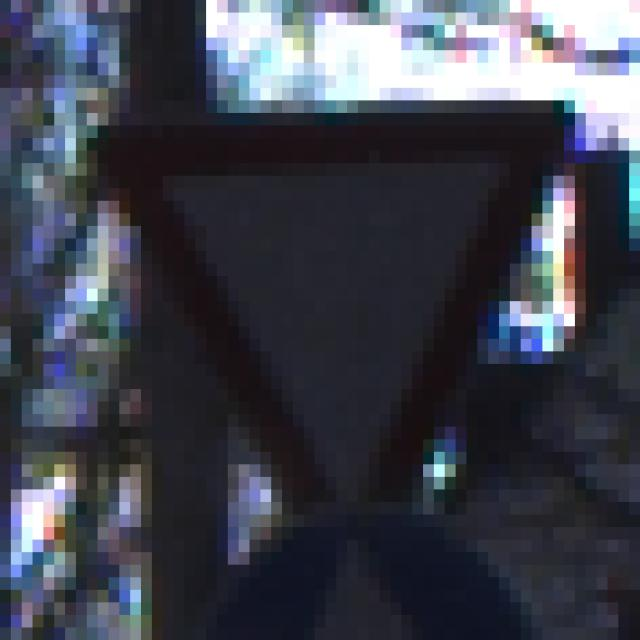Give Way: (66, 77, 587, 579)
